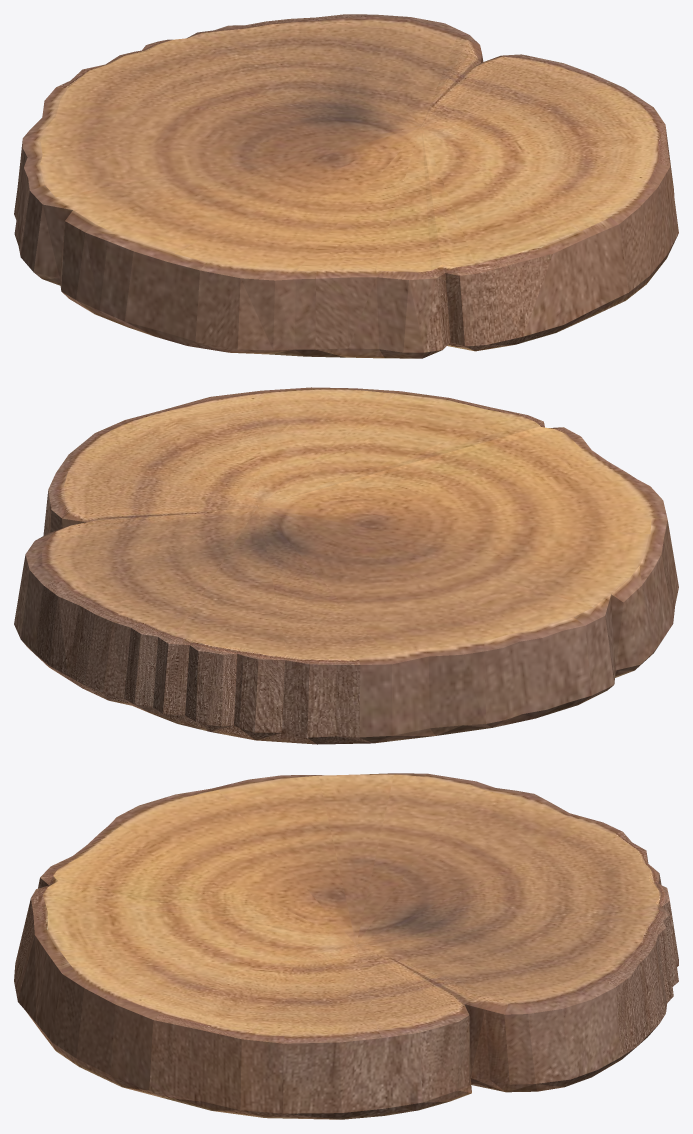
File: wooden_cutting_board_M.fbx
3 views of the same model, one above another, from view 1: azimuth 30°, elevation 25°; view 2: azimuth 150°, elevation 25°; view 3: azimuth 270°, elevation 25° (orthographic). The views are drawn at different scales.
Parts seen in each view (by area): view 1: Object001; view 2: Object001; view 3: Object001.
Boxes of the visible parts, bbox=[...] form: Object001: bbox=[14, 14, 678, 358]; Object001: bbox=[14, 387, 678, 744]; Object001: bbox=[14, 773, 678, 1119].
Size of the model in its own units: 0.9941 by 0.1348 by 0.998.
